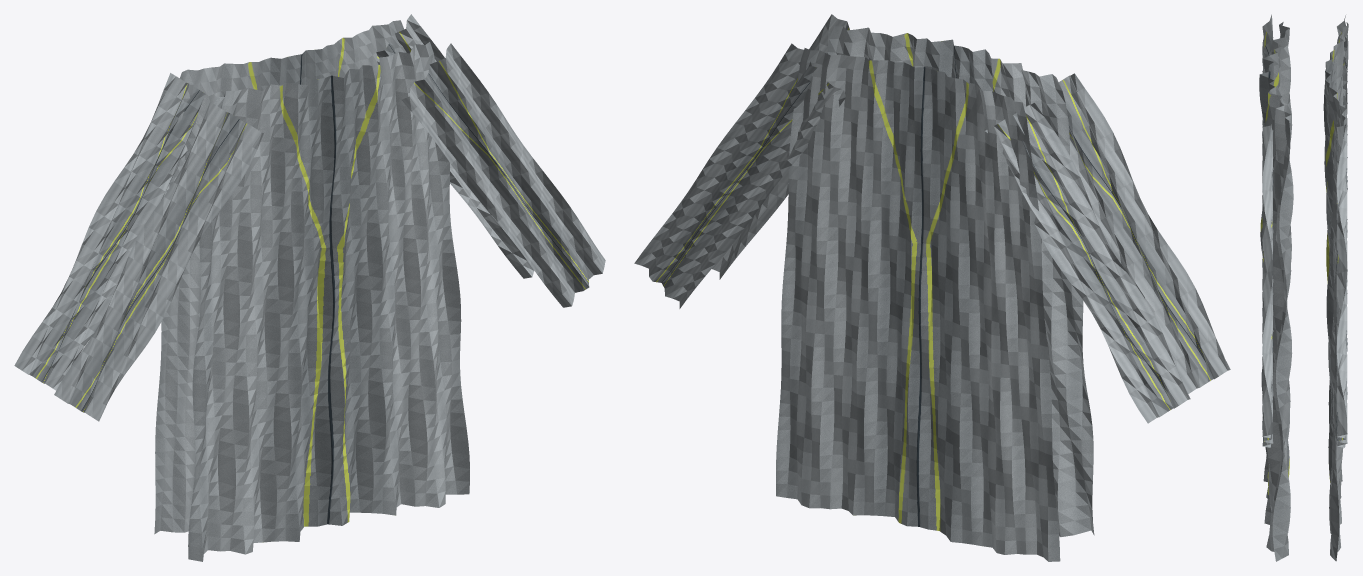
The model's file is 03-silver-tech.glb.
3 renders of one model, left to right at view 1: azimuth 30°, elevation 25°; view 2: azimuth 150°, elevation 25°; view 3: azimuth 270°, elevation 25°, orthographic. The views are drawn at different scales.
Visible parts, largest first — view 1: 03-silver-tech; view 2: 03-silver-tech; view 3: 03-silver-tech.
Part boxes in pixels (x1=…): 03-silver-tech: x1=14, y1=14, x2=605, y2=561; 03-silver-tech: x1=634, y1=14, x2=1230, y2=561; 03-silver-tech: x1=1259, y1=14, x2=1348, y2=561.
Bounding box in the file's own units: 2.15 × 1.71 × 0.3234.
Materials: 1 (1 with a texture image).
